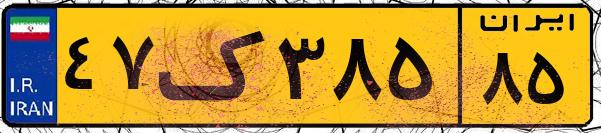3: (270, 28, 330, 110)
4: (57, 26, 110, 100)
5: (385, 28, 445, 110), (525, 38, 570, 115)
7: (110, 28, 158, 98)
8: (330, 28, 385, 110), (475, 38, 525, 113)
ک: (158, 12, 270, 120)
